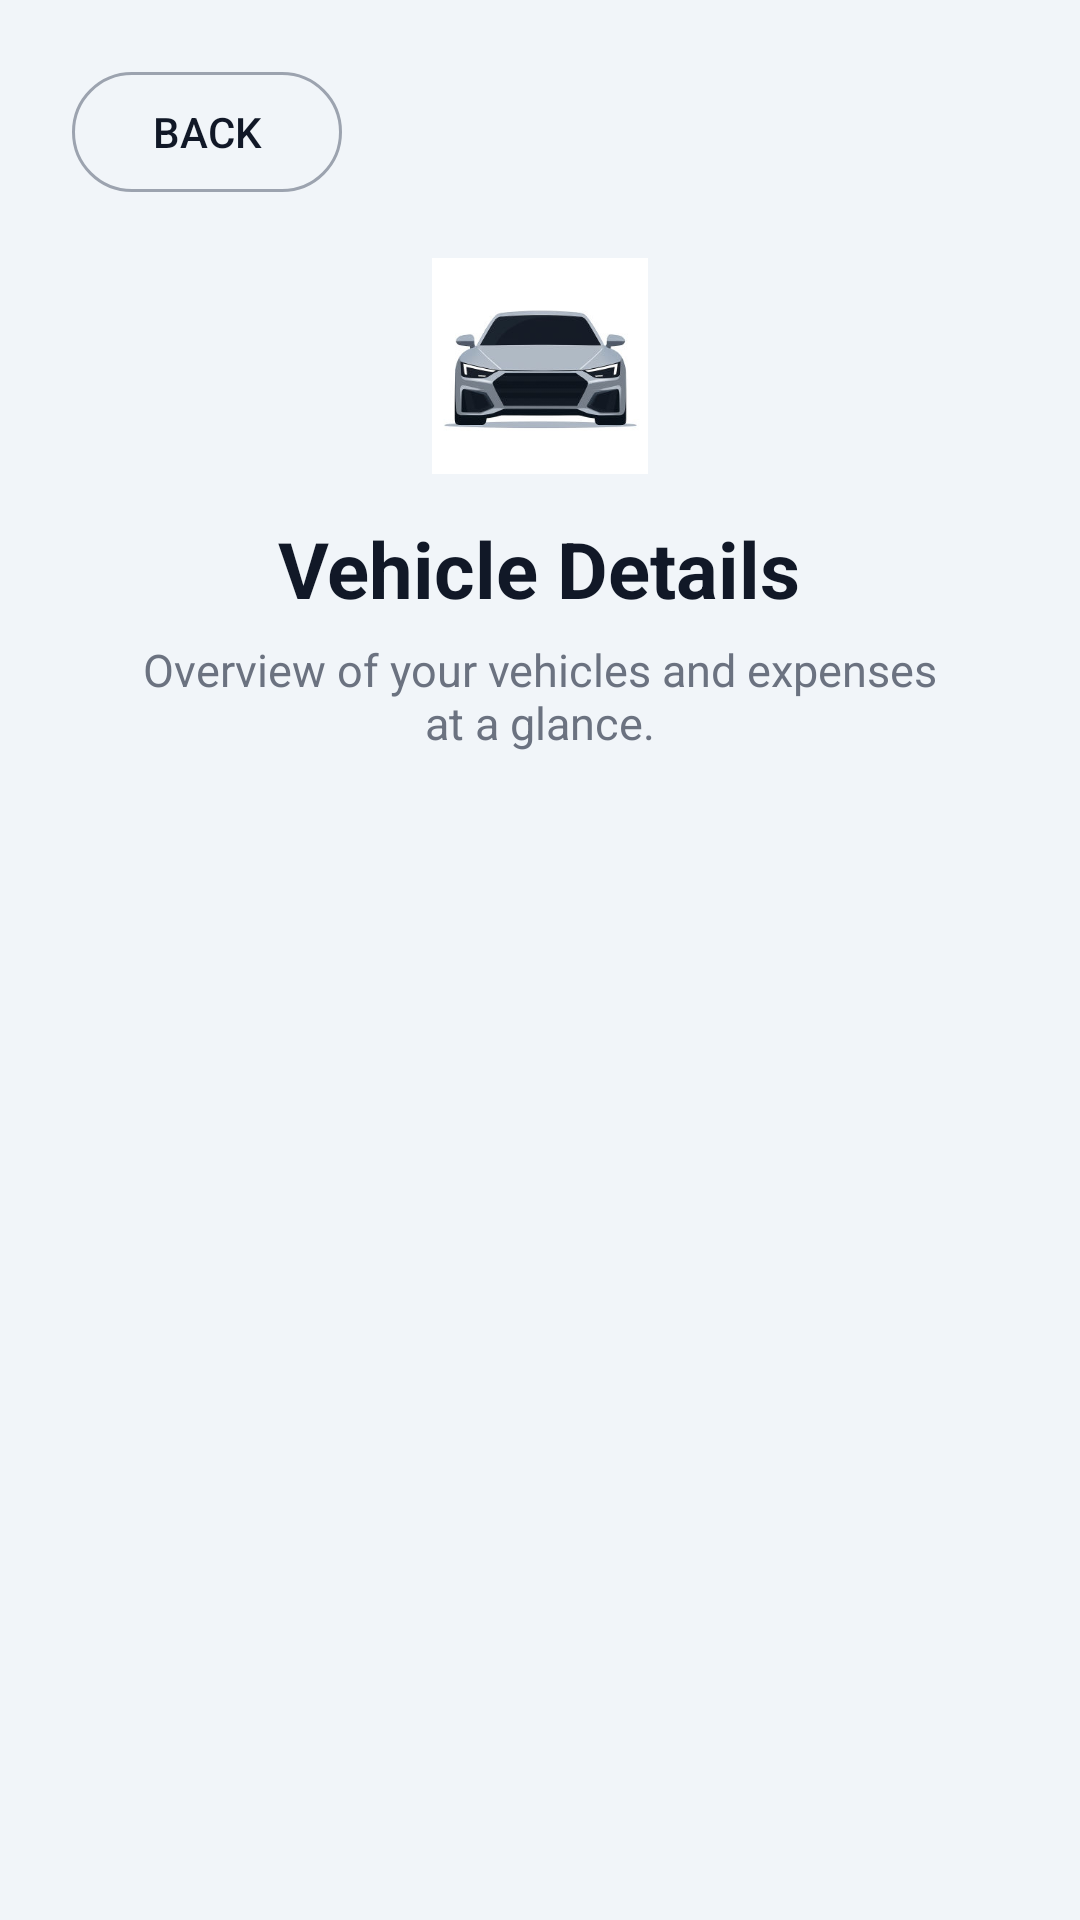

Icon bounding boxes for this 1080w x 1920h phone screenshot, format [x1=x1, y1=y1, x2=x2, y2=y2]:
details pic: [x1=445, y1=311, x2=636, y2=428]
